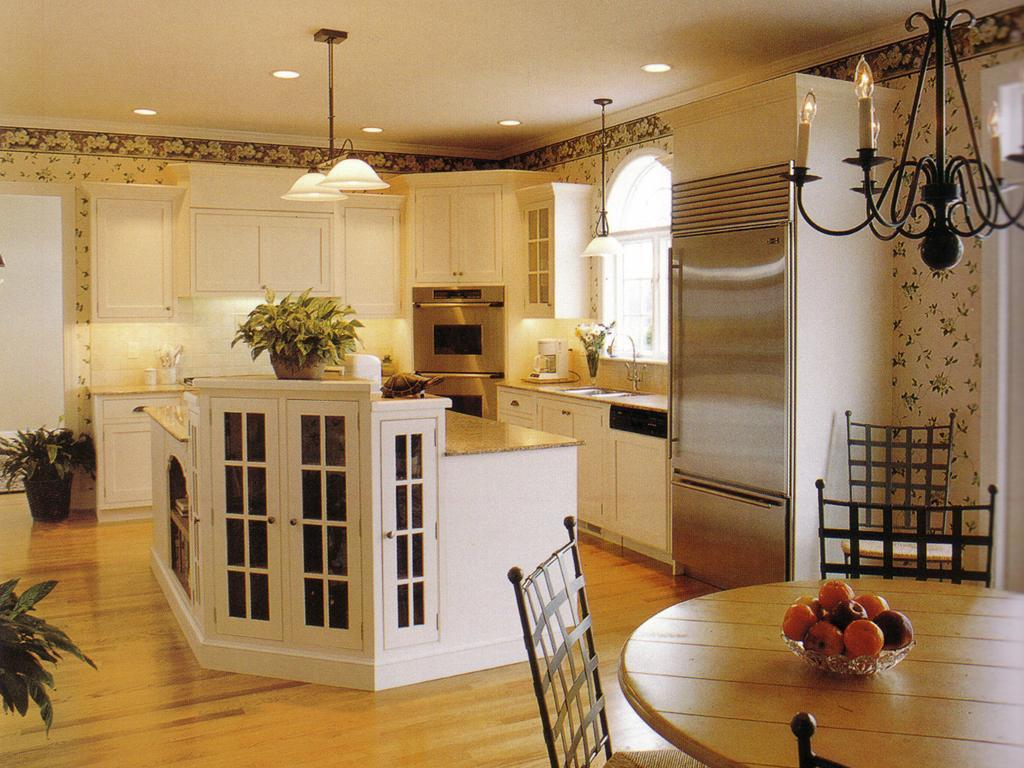Electrodomestico: (676, 241, 798, 585)
